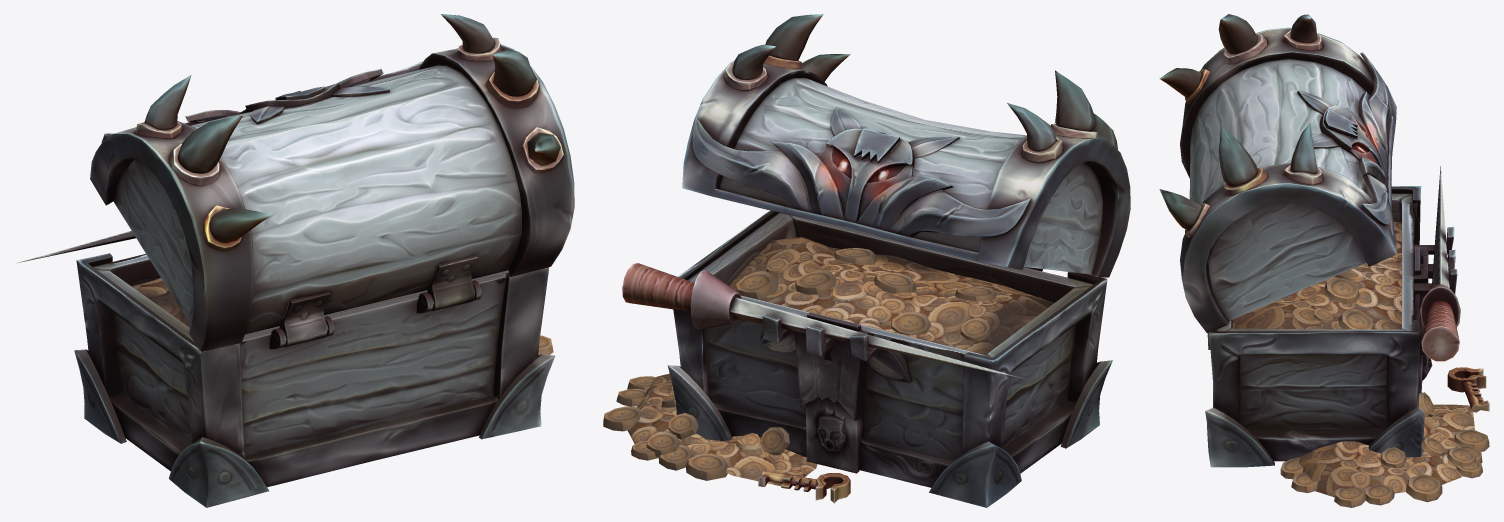
Rendered from cc0_chest_with_bat_decorations.glb.
3 views of the same model, side by side, from view 1: azimuth 30°, elevation 25°; view 2: azimuth 150°, elevation 25°; view 3: azimuth 270°, elevation 25° (orthographic). The views are drawn at different scales.
Visible parts, largest first — view 1: Chest_Door, ChestMain; view 2: ChestMain, Chest_Door; view 3: ChestMain, Chest_Door.
Part boxes in pixels (bbox=[...]): Chest_Door: bbox=[90, 14, 574, 351]; ChestMain: bbox=[16, 231, 554, 507]; ChestMain: bbox=[603, 210, 1112, 507]; Chest_Door: bbox=[682, 14, 1130, 277]; ChestMain: bbox=[1205, 166, 1489, 507]; Chest_Door: bbox=[1159, 14, 1396, 332].
Size of the model in its own units: 2.66 by 2.02 by 1.82.
Materials: 1 (1 with a texture image).
